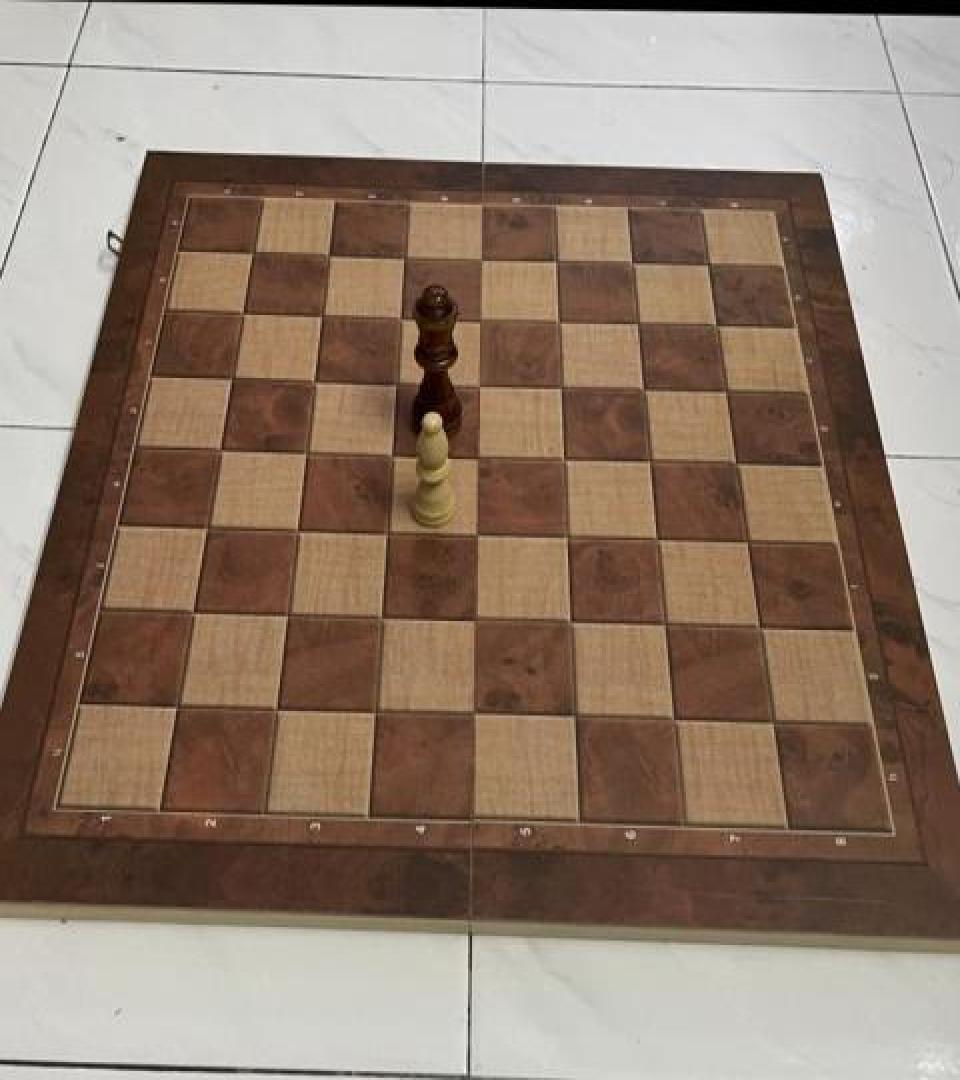xcorner: (387, 237, 421, 276), (462, 436, 496, 475), (261, 686, 295, 725), (693, 246, 727, 284), (617, 244, 651, 282), (540, 242, 574, 280), (464, 240, 498, 278), (311, 234, 345, 272), (234, 232, 268, 270), (701, 307, 735, 345), (622, 305, 656, 343), (543, 303, 577, 341), (463, 300, 497, 338), (384, 297, 418, 335), (304, 295, 338, 333), (225, 292, 259, 330), (711, 372, 745, 410), (628, 370, 662, 408), (545, 368, 579, 406), (463, 364, 497, 402), (380, 362, 414, 400), (297, 360, 331, 398), (214, 358, 248, 396), (721, 444, 755, 482), (635, 441, 669, 479), (548, 439, 582, 477), (376, 433, 410, 471), (289, 431, 323, 469), (203, 429, 237, 467), (732, 522, 766, 560), (642, 520, 676, 558), (552, 516, 586, 554), (461, 514, 495, 552), (371, 511, 405, 549), (281, 508, 315, 546), (190, 505, 224, 543), (744, 608, 778, 646), (650, 604, 684, 642), (555, 602, 589, 640), (461, 598, 495, 636), (366, 595, 400, 633), (271, 593, 305, 631), (177, 590, 211, 628), (758, 701, 792, 739), (658, 698, 692, 736), (559, 696, 593, 734), (460, 692, 494, 730), (360, 688, 394, 726), (162, 683, 196, 721)
